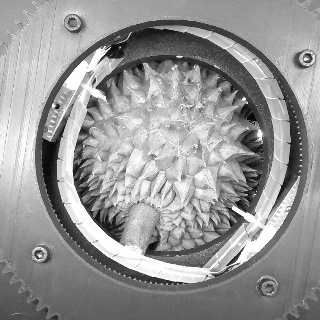base: (123, 198, 163, 228)
